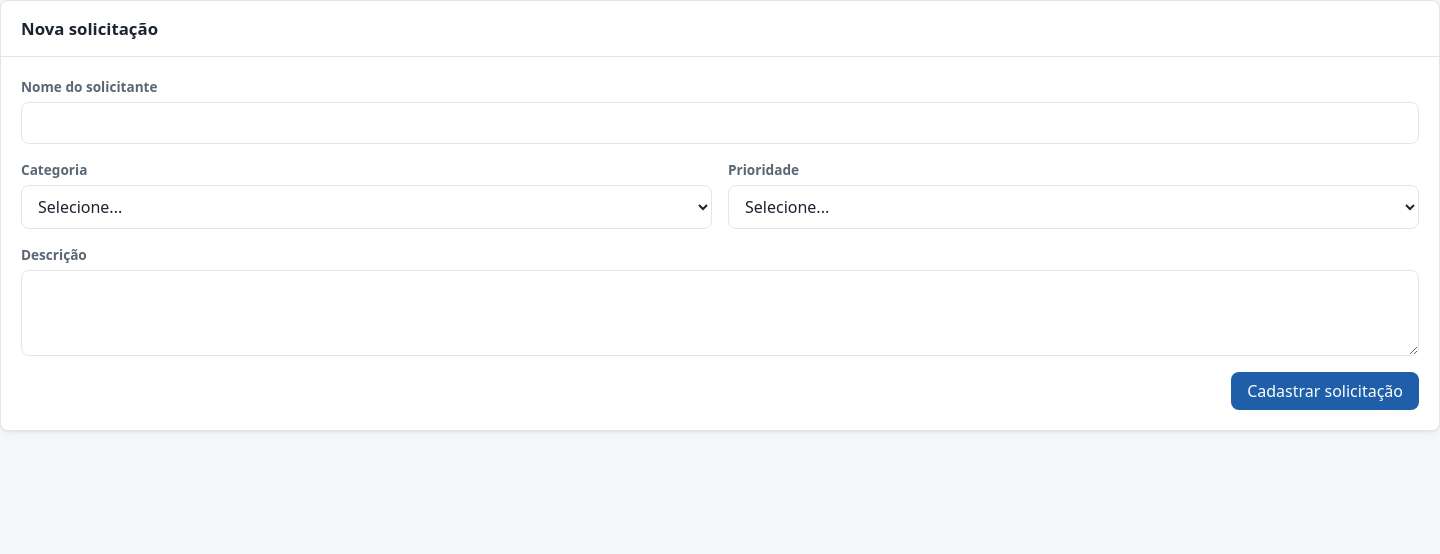
Test: FormularioSolicitacao › mostra o campo de justificativa somente quando a prioridade e urgente
Check: the field labelled "justificativa da prioridade" is not shown
Select "Urgente" in the dropdown labelled "Prioridade": (1074, 207) top-left (728, 185), bottom-right (1419, 229)
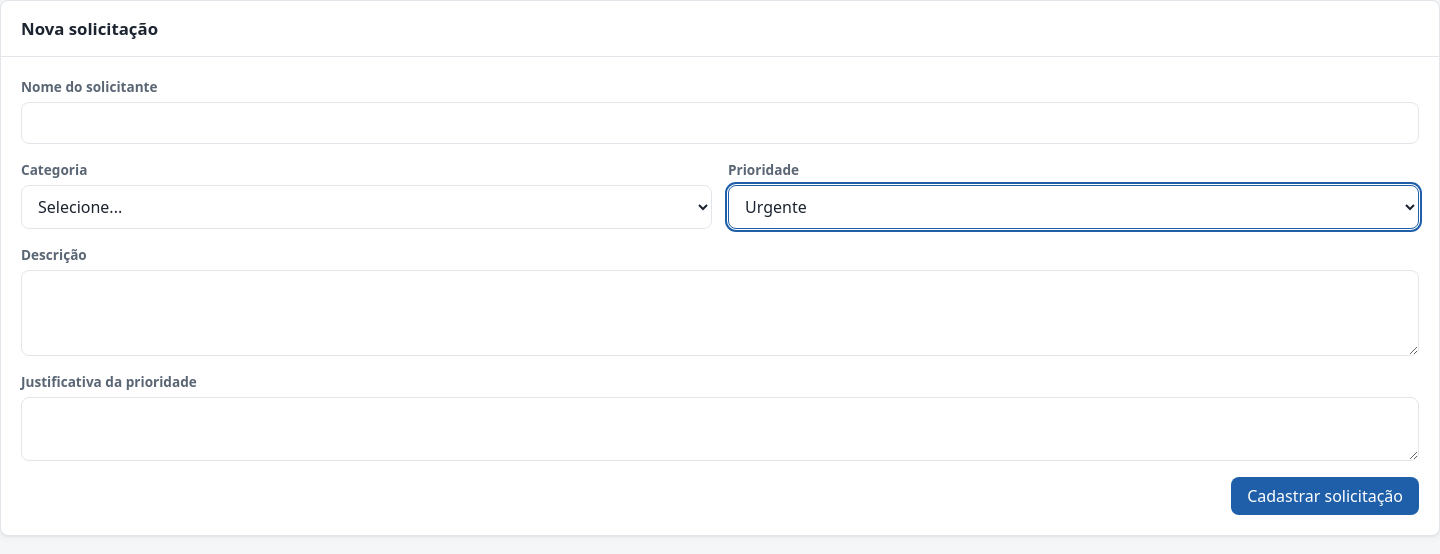
Check: the text box labelled "Justificativa da prioridade" is shown, box top-left (21, 397), bottom-right (1419, 461)
Select "Baixa" in the dropdown labelled "Prioridade": (1074, 207) top-left (728, 185), bottom-right (1419, 229)
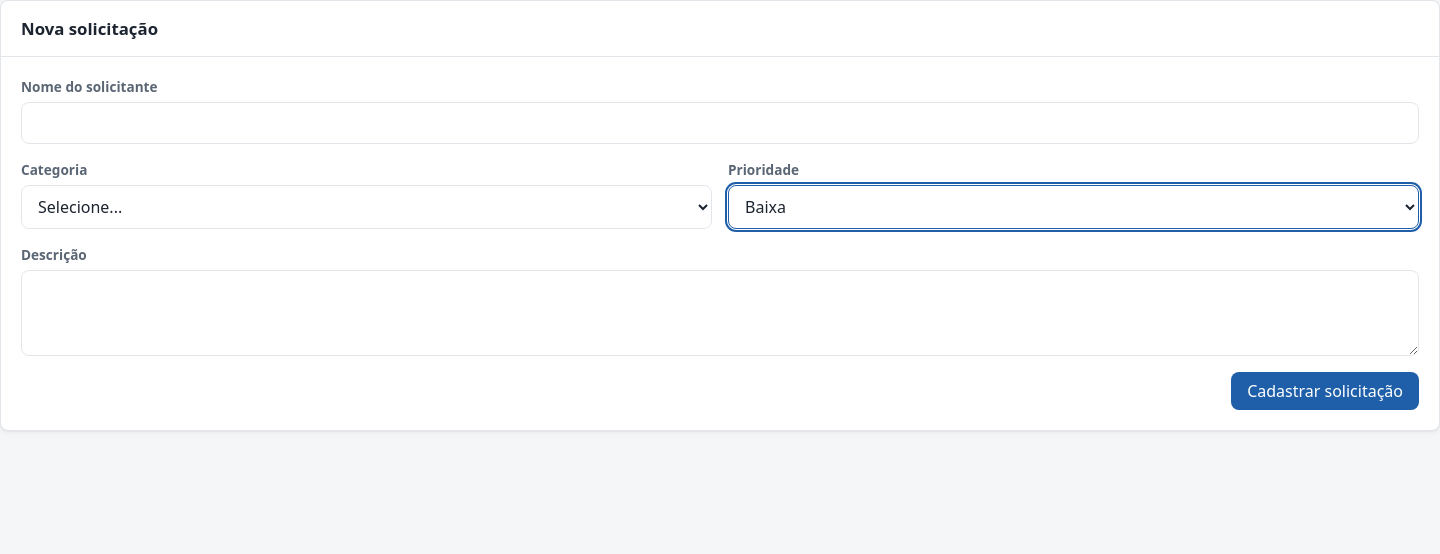
Check: the label labelled "Justificativa da prioridade" is gone
